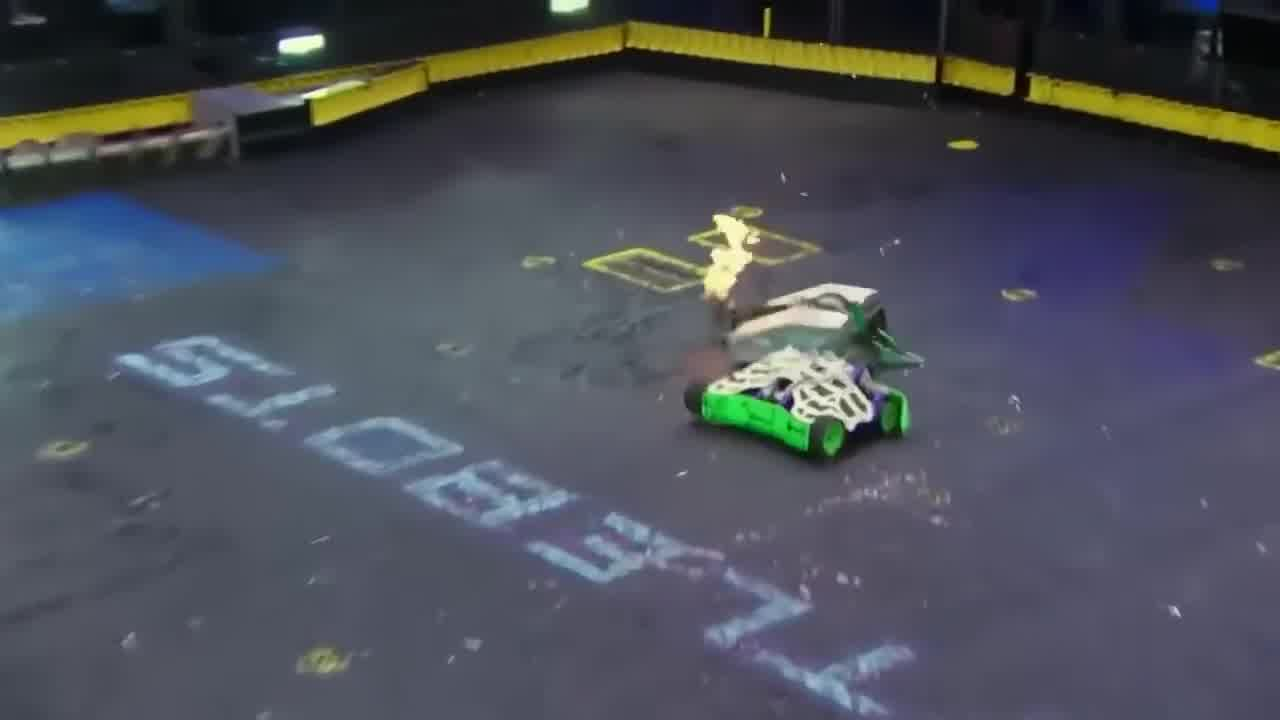combatbot: (682, 346, 912, 462), (713, 281, 922, 372)
